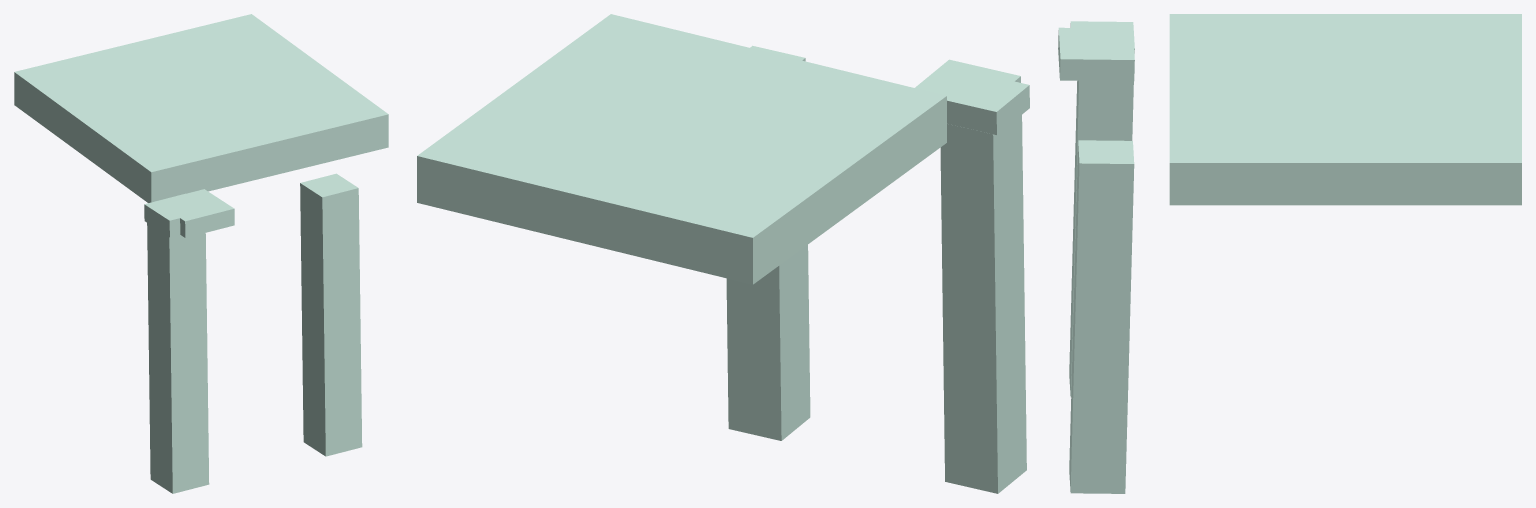
3 views of the same model, side by side, from view 1: azimuth 30°, elevation 25°; view 2: azimuth 150°, elevation 25°; view 3: azimuth 270°, elevation 25° (orthographic). The views are drawn at different scales.
Parts seen in each view (by area): view 1: Renderer Node; view 2: Renderer Node; view 3: Renderer Node.
Part boxes in pixels (x1=…): Renderer Node: x1=14, y1=14, x2=388, y2=493; Renderer Node: x1=417, y1=14, x2=1029, y2=493; Renderer Node: x1=1058, y1=14, x2=1521, y2=493.
Size of the model in its own units: 0.7656 by 0.8201 by 0.9254.
